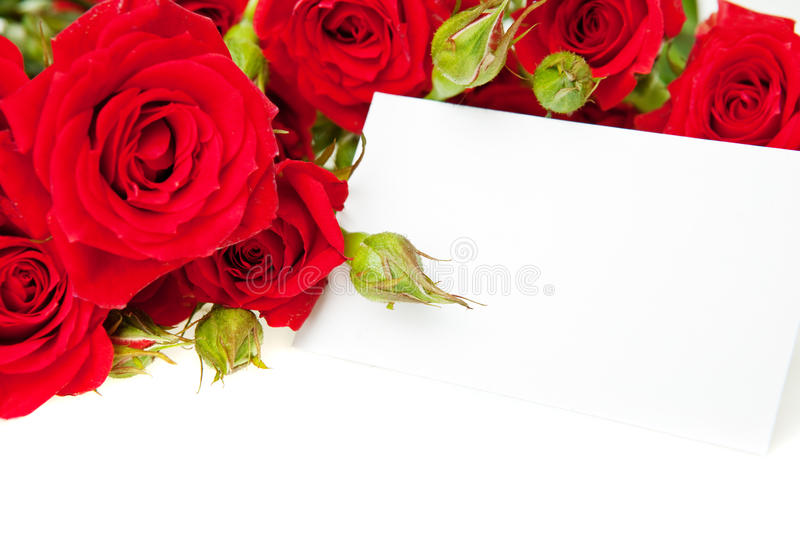RedRose: (26, 9, 276, 273), (651, 1, 798, 158), (256, 0, 410, 129), (14, 235, 115, 415), (236, 169, 334, 320), (550, 0, 645, 115)
